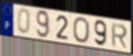0: (17, 8, 32, 36)
2: (55, 14, 70, 41)
9: (36, 9, 51, 40), (94, 20, 108, 48)
O: (72, 17, 91, 45)
R: (110, 23, 128, 50)
